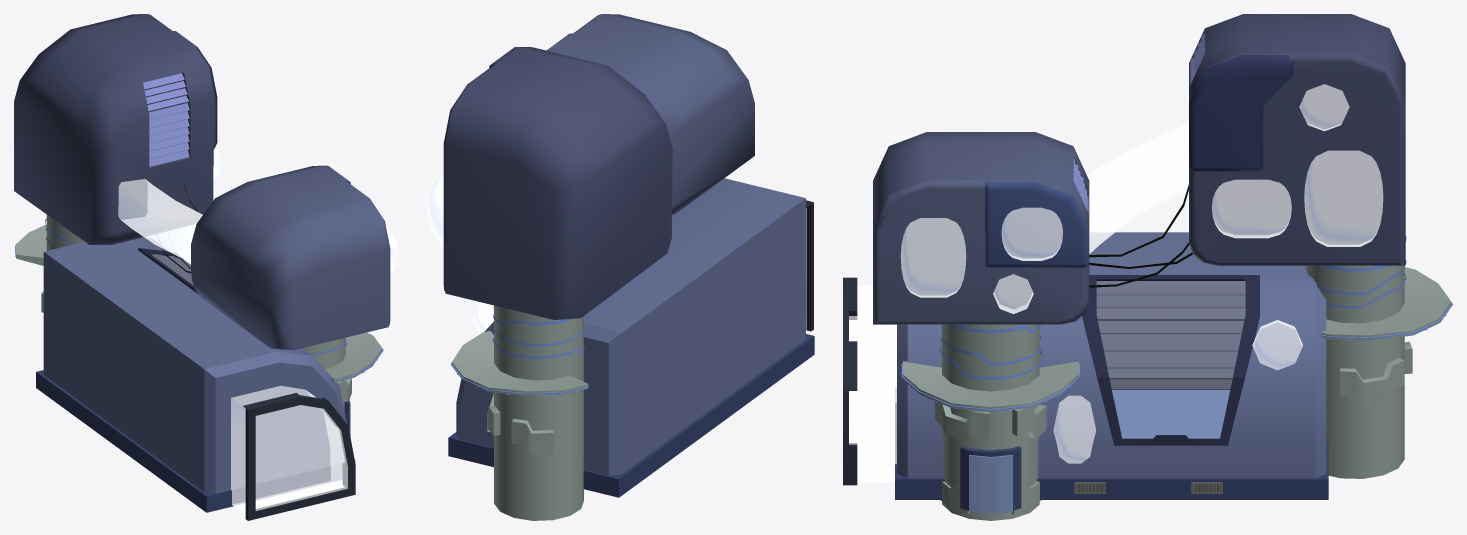
File: West_Hotel_01.fbx
3 renders of one model, left to right at view 1: azimuth 30°, elevation 25°; view 2: azimuth 150°, elevation 25°; view 3: azimuth 270°, elevation 25°, orthographic. The views are drawn at different scales.
Visible parts, largest first — view 1: West_Hotel_01; view 2: West_Hotel_01; view 3: West_Hotel_01.
Part boxes in pixels (x1,y1,x2,y2): West_Hotel_01: [14, 14, 398, 520]; West_Hotel_01: [427, 14, 814, 520]; West_Hotel_01: [843, 14, 1452, 520].
Size of the model in its own units: 33 by 53.61 by 66.82.
Materials: 3 (2 with a texture image).
